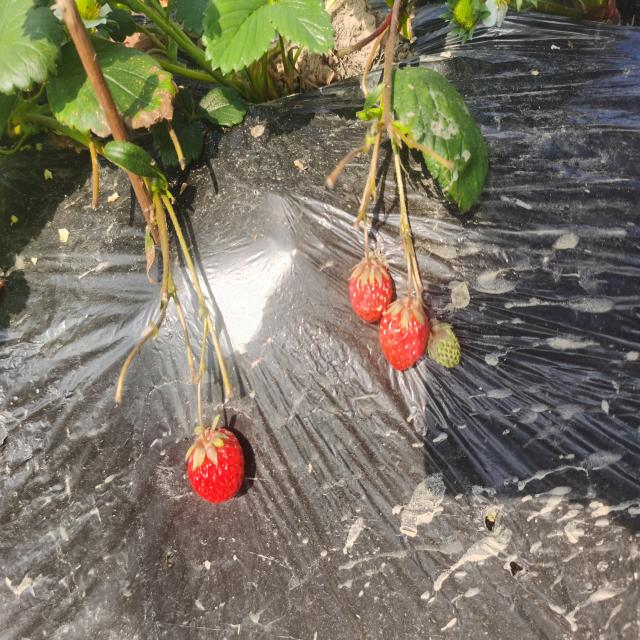stem: (198, 404, 211, 448), (365, 232, 371, 269), (407, 268, 411, 311)
strawberry: (188, 428, 244, 504), (379, 296, 429, 370), (349, 257, 392, 323)
